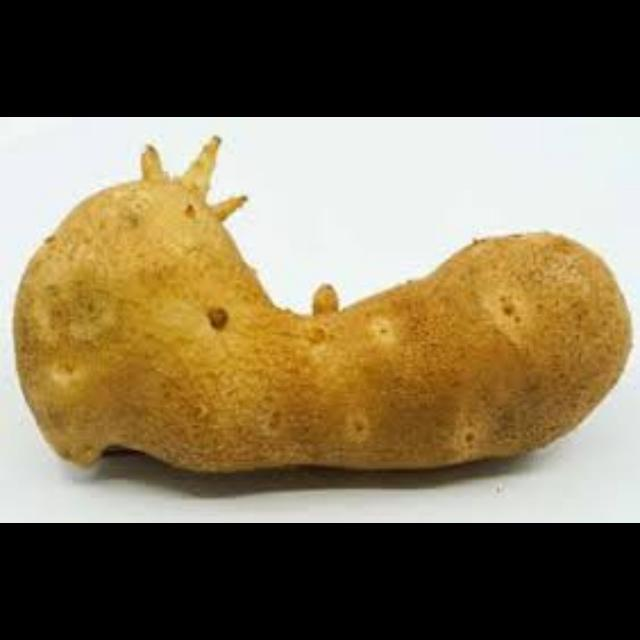Sprouted potato: (1, 120, 638, 486)
